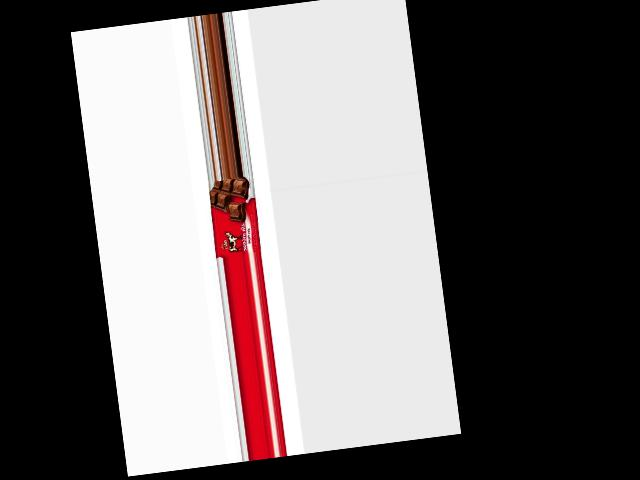chocolate: (207, 175, 263, 259)
